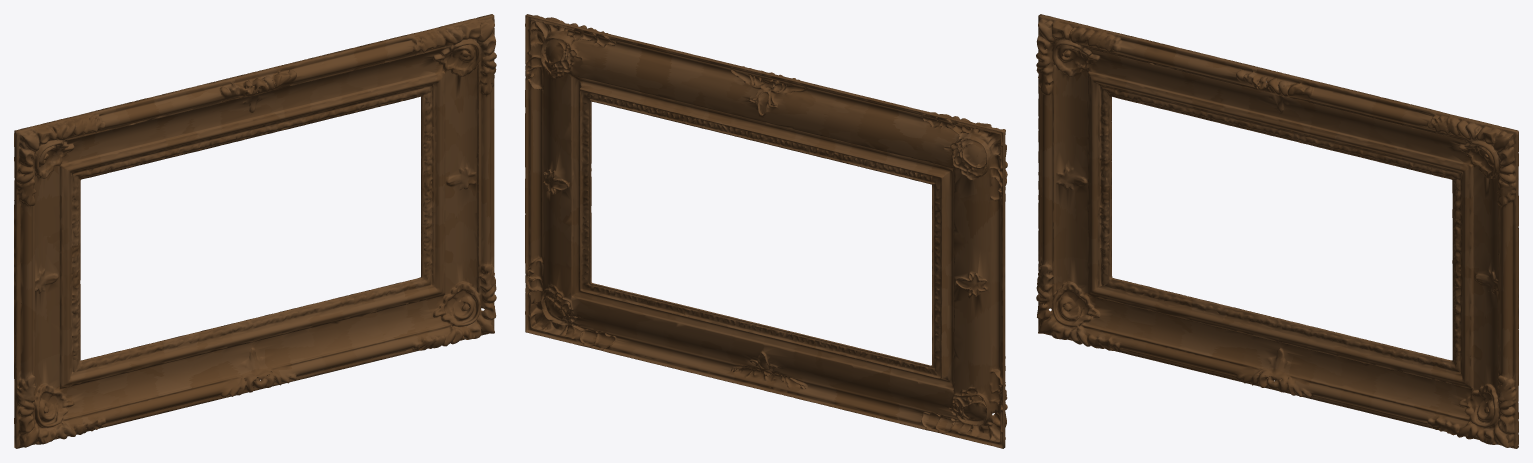
Rendered from frame.glb.
The picture shows the model from 3 angles, left to right: view 1: azimuth 30°, elevation 25°; view 2: azimuth 150°, elevation 25°; view 3: azimuth 330°, elevation 25°; orthographic projection.
Bounding box in the file's own units: 1.9 × 1.2 × 0.0888.
Materials: 1 (1 with a texture image).
